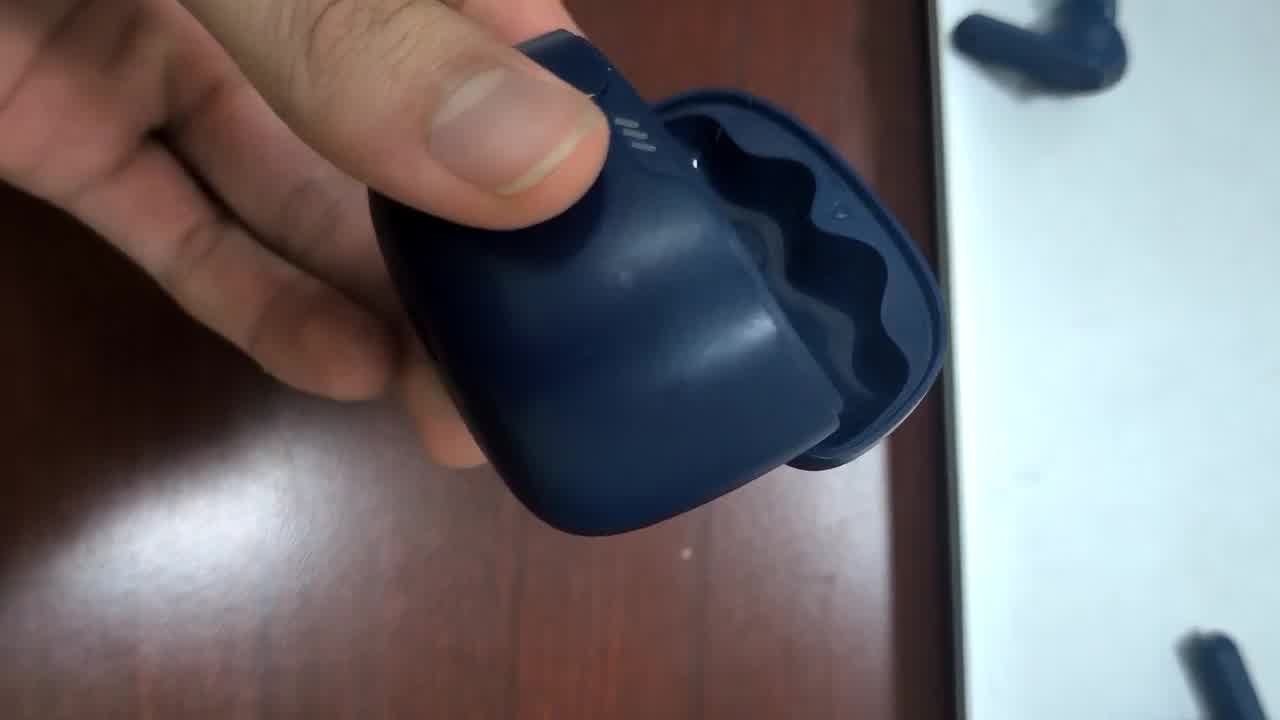Case: (363, 17, 951, 562)
Earbud: (952, 0, 1127, 91)
